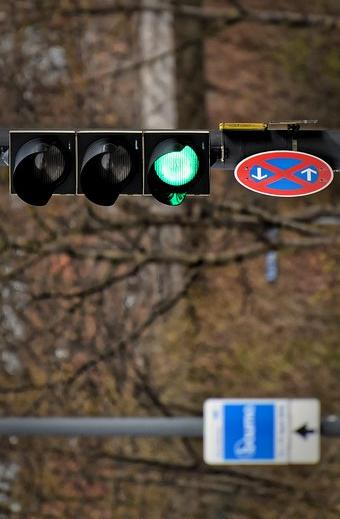trafic: (8, 131, 211, 200)
